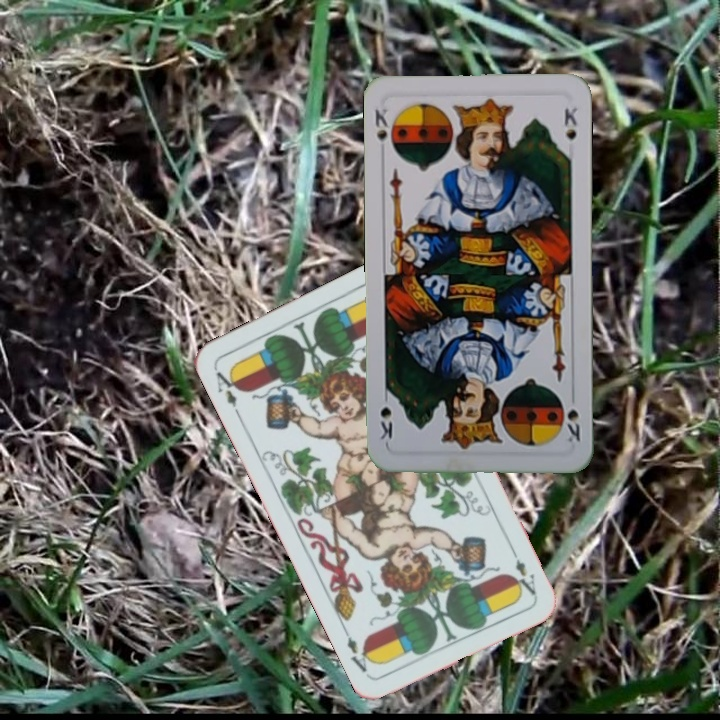EA: (211, 363, 244, 420), (506, 542, 539, 598)
SK: (370, 104, 398, 157), (562, 388, 583, 445)
